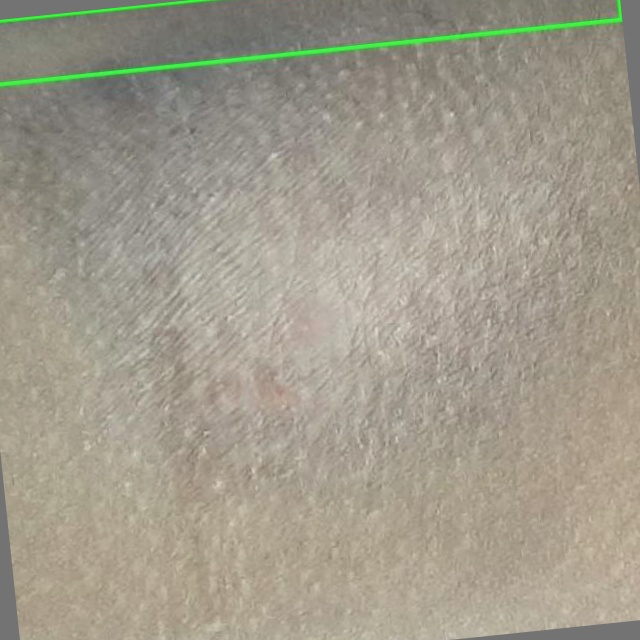Atopic Dermatitis: (0, 0, 621, 84)
